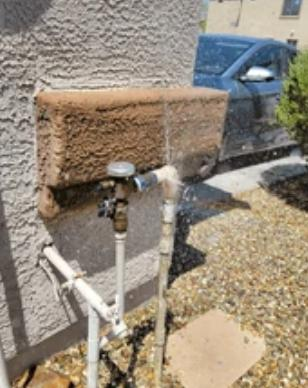pipe burst: (161, 100, 200, 190)
